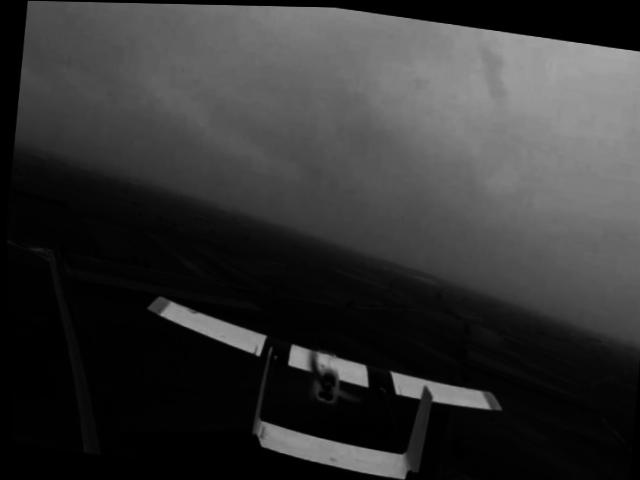hedef: (116, 286, 518, 480)
